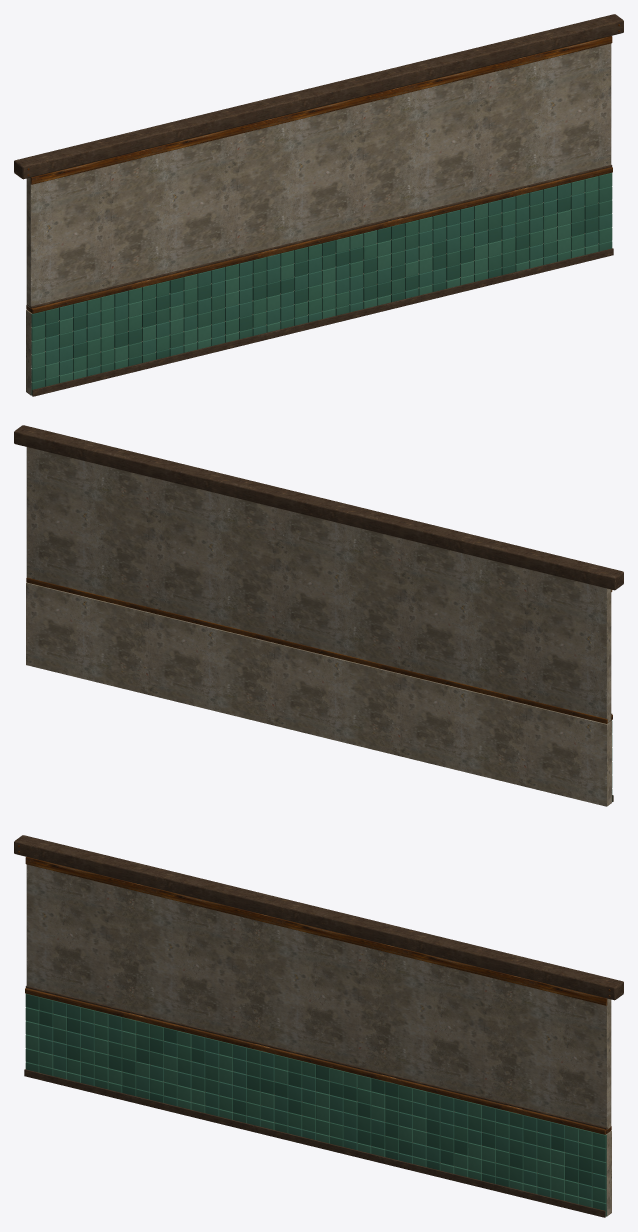
The model's file is ENV_WarmWood_Wall_Back.glb.
3 renders of one model, top to bottom at view 1: azimuth 30°, elevation 25°; view 2: azimuth 150°, elevation 25°; view 3: azimuth 330°, elevation 25°, orthographic.
Parts seen in each view (by area): view 1: ENV_WarmWood_Wall_Back; view 2: ENV_WarmWood_Wall_Back; view 3: ENV_WarmWood_Wall_Back.
Part boxes in pixels (left/top/right/bottom): ENV_WarmWood_Wall_Back: left=14, top=14, right=623, bottom=396; ENV_WarmWood_Wall_Back: left=14, top=425, right=623, bottom=806; ENV_WarmWood_Wall_Back: left=14, top=835, right=623, bottom=1217.
Size of the model in its own units: 8.6 by 3.18 by 0.24.
Materials: 9 (9 with a texture image).
